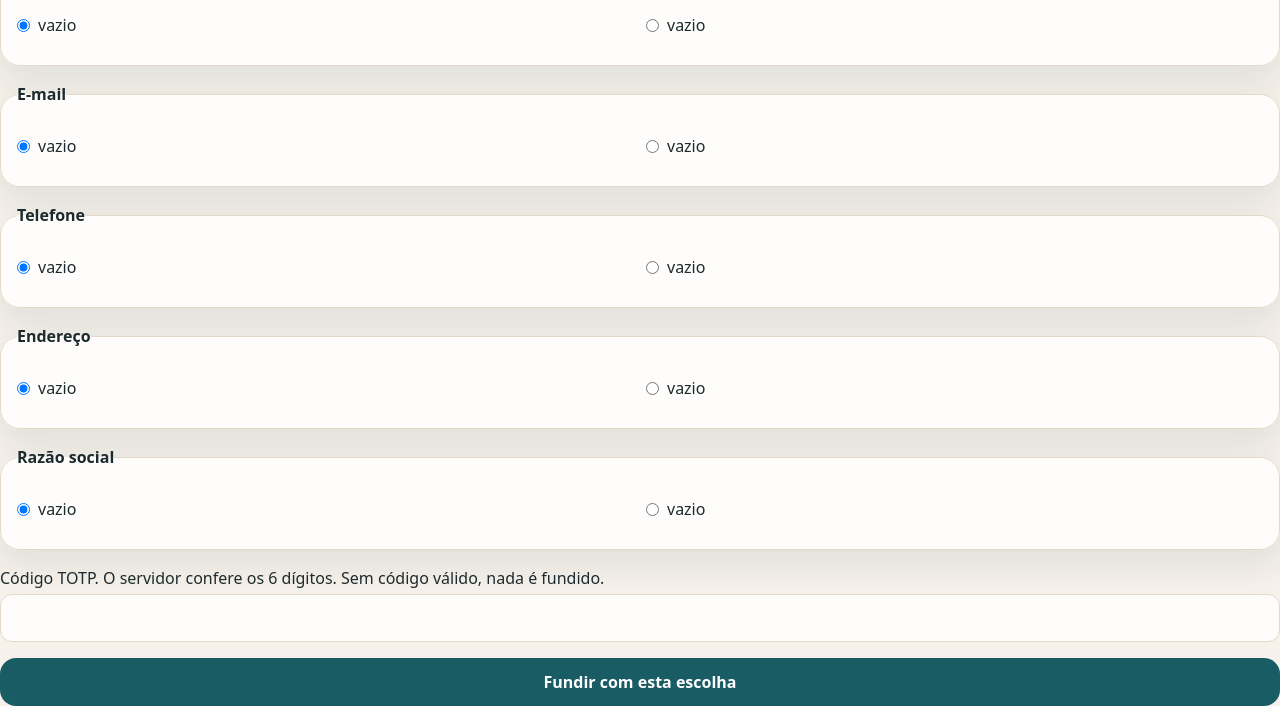
Test case: tela de merge › envia o código digitado e não manda o cabeçalho de teste
(page scrolled)
Type "654321" into the field labelled "Código TOTP" at (640, 618), box [0,594,1279,642]
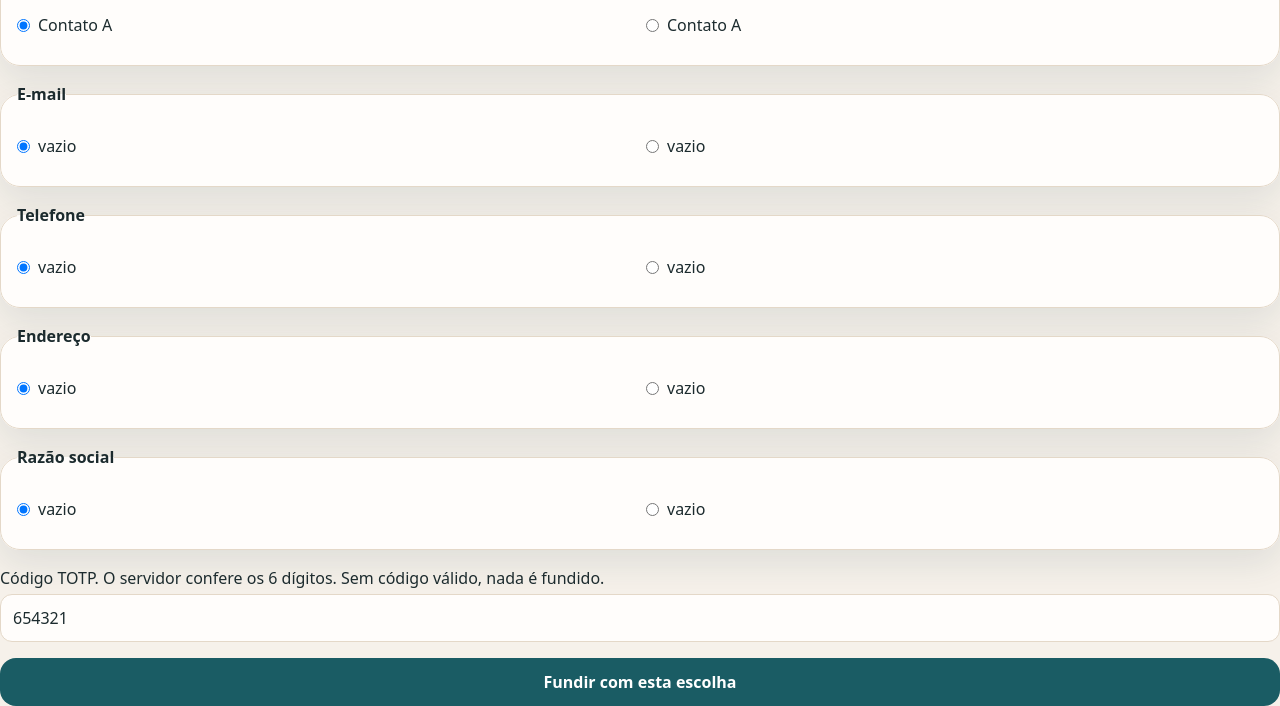
Click the button "Fundir com esta escolha" at (640, 682), box [0,658,1279,705]
(page scrolled)
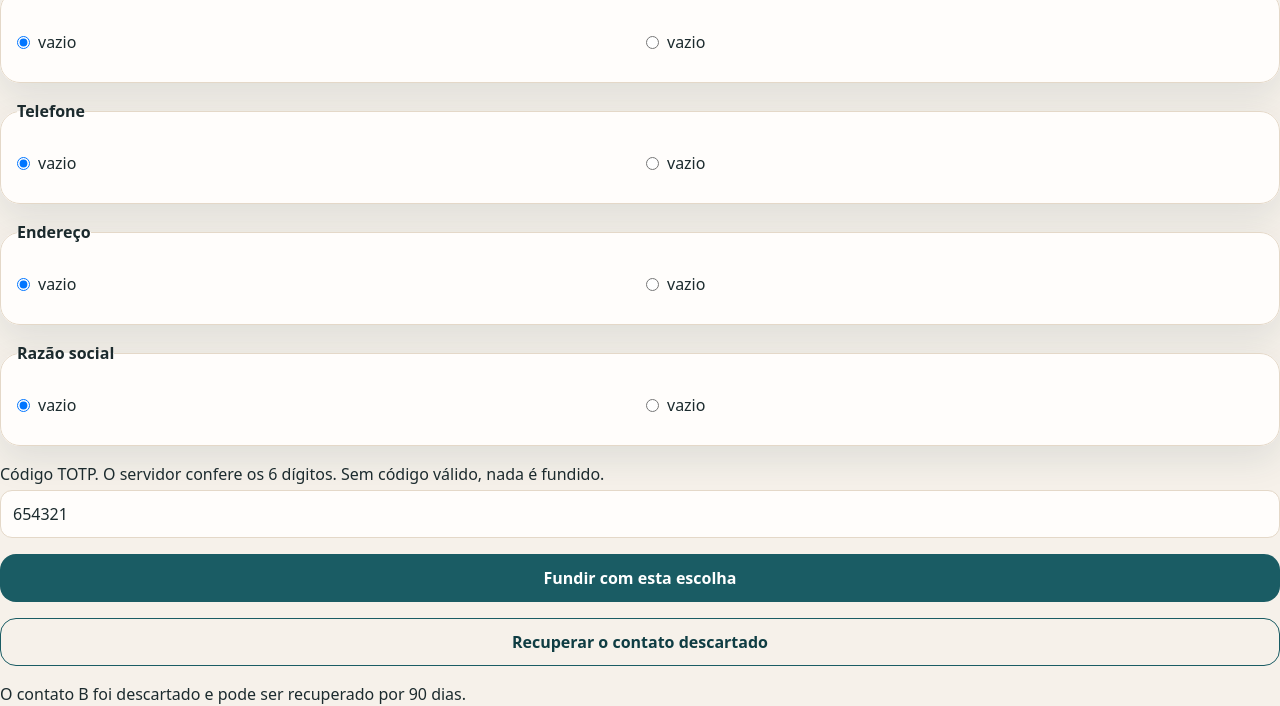
Result: the text "O contato B foi descartado e pode ser recuperado por 90 dias." is shown at [0,683,466,705]
